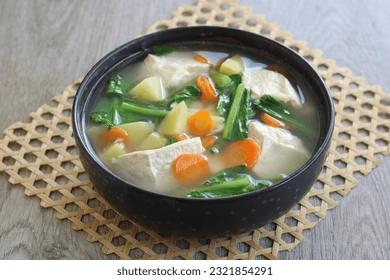buah_sayur_vitA: (175, 157, 210, 185), (189, 111, 210, 136)
kacang_legume: (257, 124, 300, 173)
